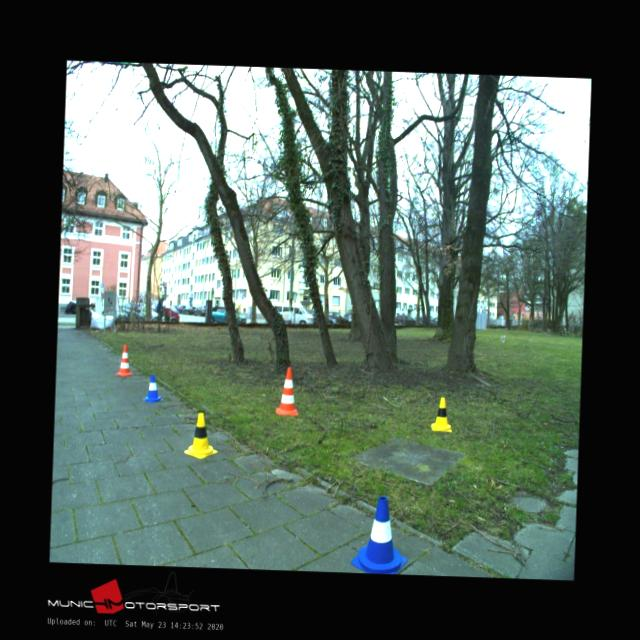blue_cone: (350, 494, 409, 574), (142, 372, 164, 402)
large_orange_cone: (275, 366, 299, 416), (115, 342, 134, 377)
yellow_cone: (184, 412, 219, 461), (430, 397, 453, 433)
